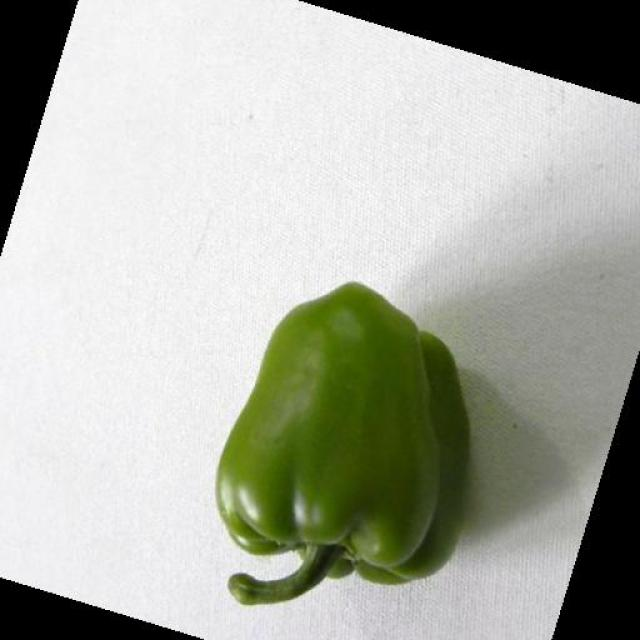Fresh_Capsicum: (207, 245, 478, 592)
